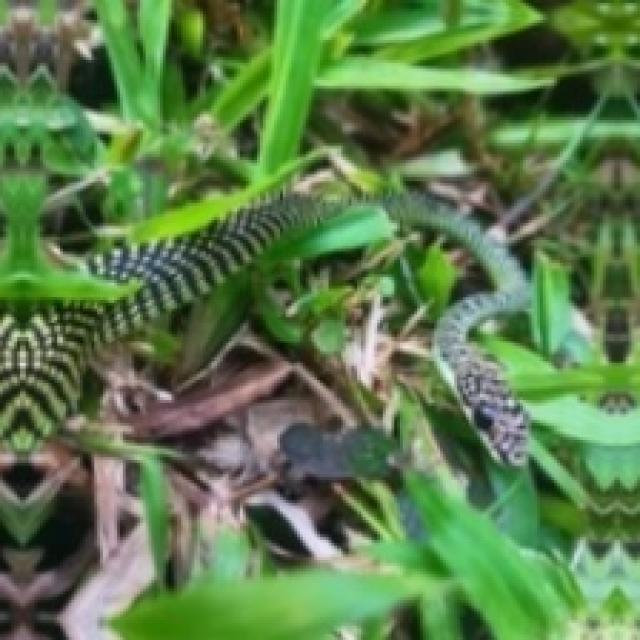paradise tree snake: (0, 194, 337, 446), (383, 194, 526, 429)
